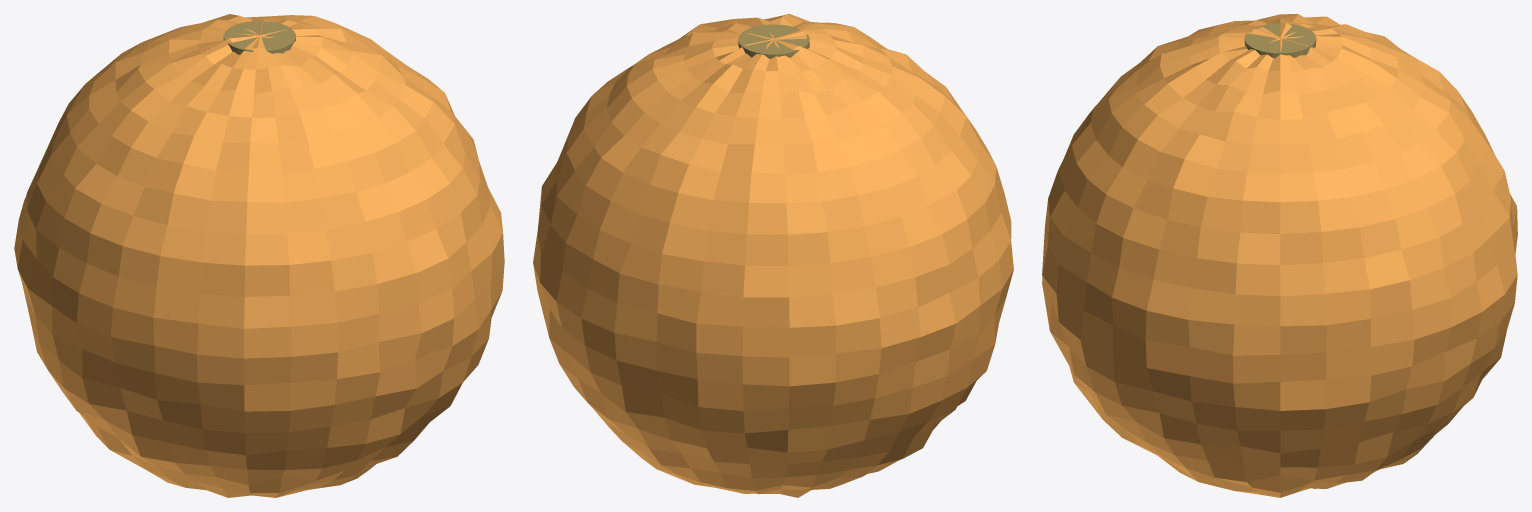
Rendered from orange.fbx.
3 renders of one model, left to right at view 1: azimuth 30°, elevation 25°; view 2: azimuth 150°, elevation 25°; view 3: azimuth 270°, elevation 25°, orthographic.
Visible parts, largest first — view 1: Orange; view 2: Orange; view 3: Orange.
Boxes of the visible parts, box(x1,y1,x2,y2) form: Orange: box(14, 14, 504, 497); Orange: box(533, 14, 1013, 497); Orange: box(1042, 14, 1517, 497).
Size of the model in its own units: 1.99 by 2.02 by 1.99.
